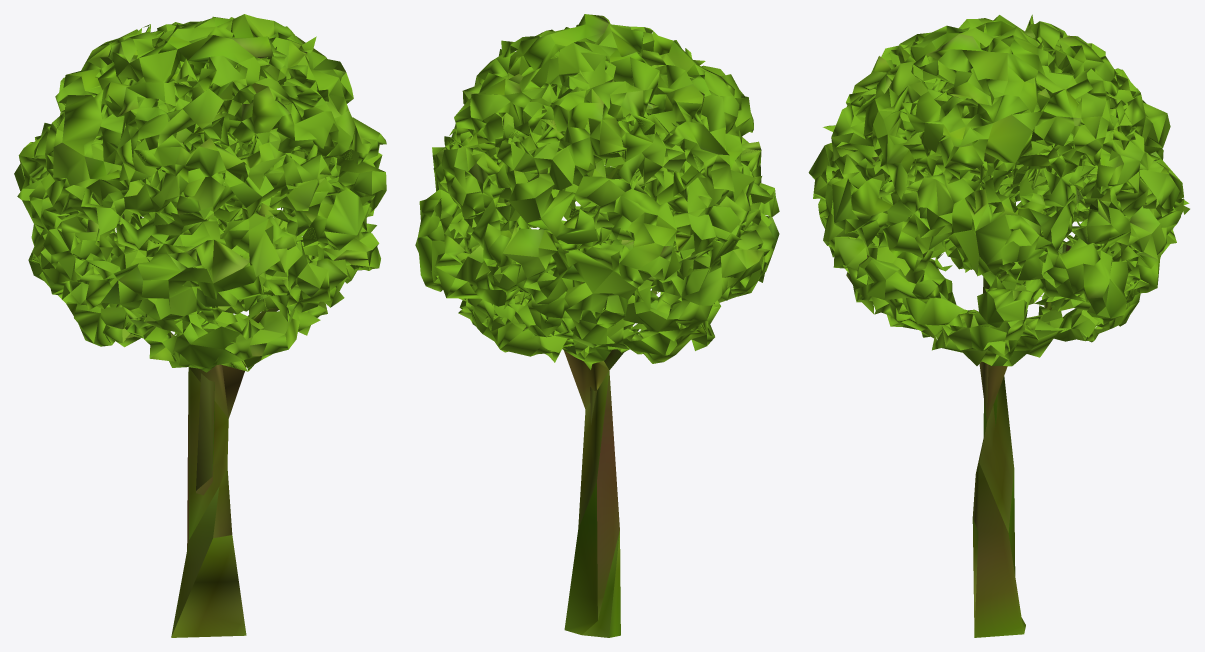
The model's file is getkong-baum4.glb.
3 views of the same model, side by side, from view 1: azimuth 30°, elevation 25°; view 2: azimuth 150°, elevation 25°; view 3: azimuth 270°, elevation 25° (orthographic). The views are drawn at different scales.
Visible parts, largest first — view 1: output_unwrapped; view 2: output_unwrapped; view 3: output_unwrapped.
Part boxes in pixels (x1,y1,x2,y2): output_unwrapped: (14, 14, 386, 637); output_unwrapped: (415, 14, 779, 637); output_unwrapped: (808, 14, 1189, 637).
Bounding box in the file's own units: 1.08 × 1.89 × 1.1.
Materials: 1 (1 with a texture image).
